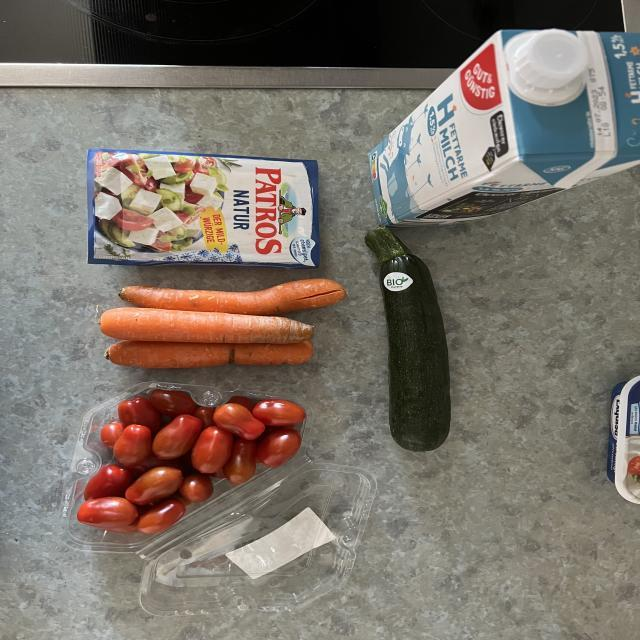carrot: (85, 270, 380, 314), (85, 310, 335, 349), (108, 340, 359, 370)
tomato: (80, 384, 308, 537)
zucchini: (359, 226, 477, 458)
